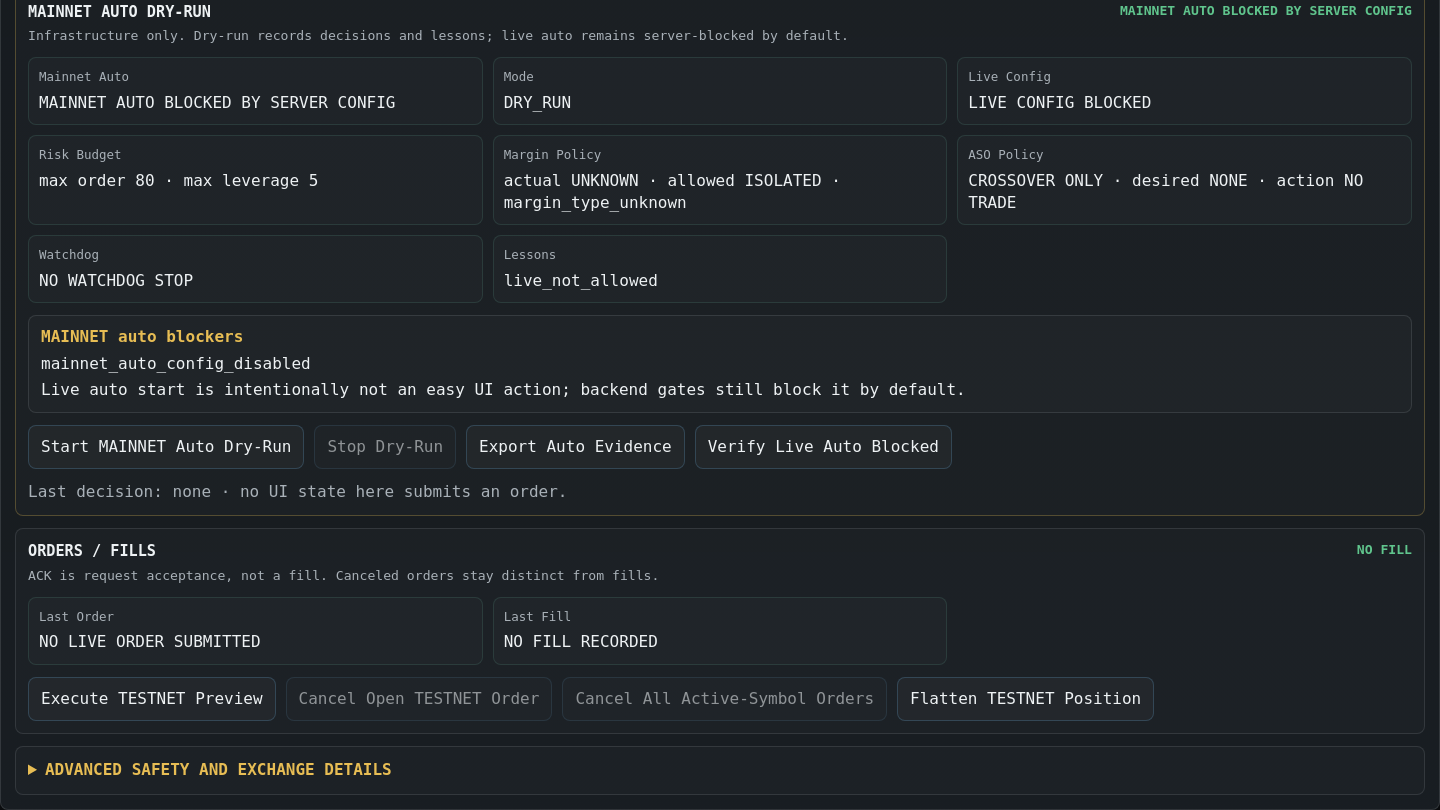
live access panel › submits, cancels, and flattens only through explicit TESTNET confirmations
(page scrolled)
Step 1. Click the button "Execute TESTNET Preview" → (152, 699), box [28,677,276,721]
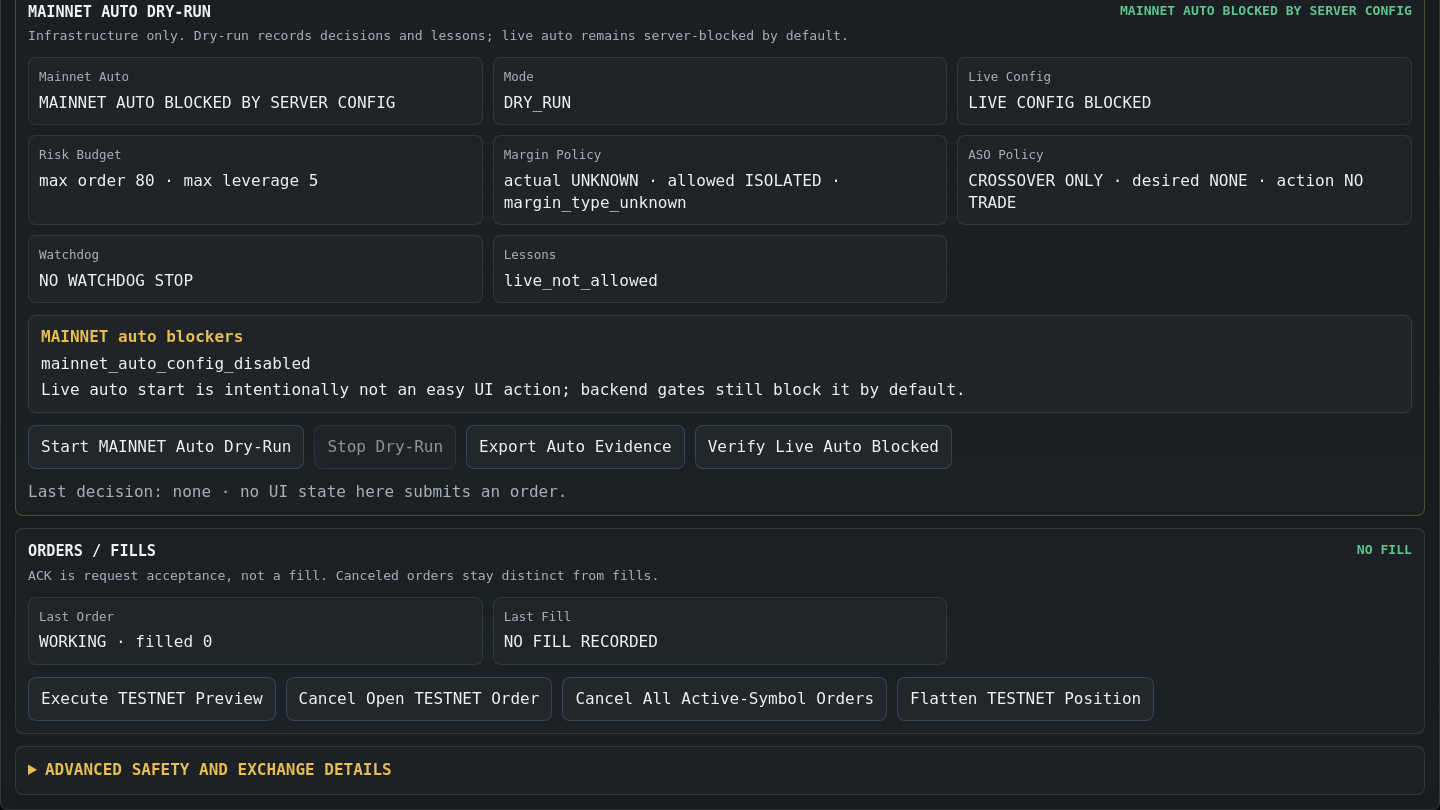
Expected: the text "FILLED" is not shown
Step 2. Click the button "Cancel Open TESTNET Order" → (419, 699), box [286,677,552,721]
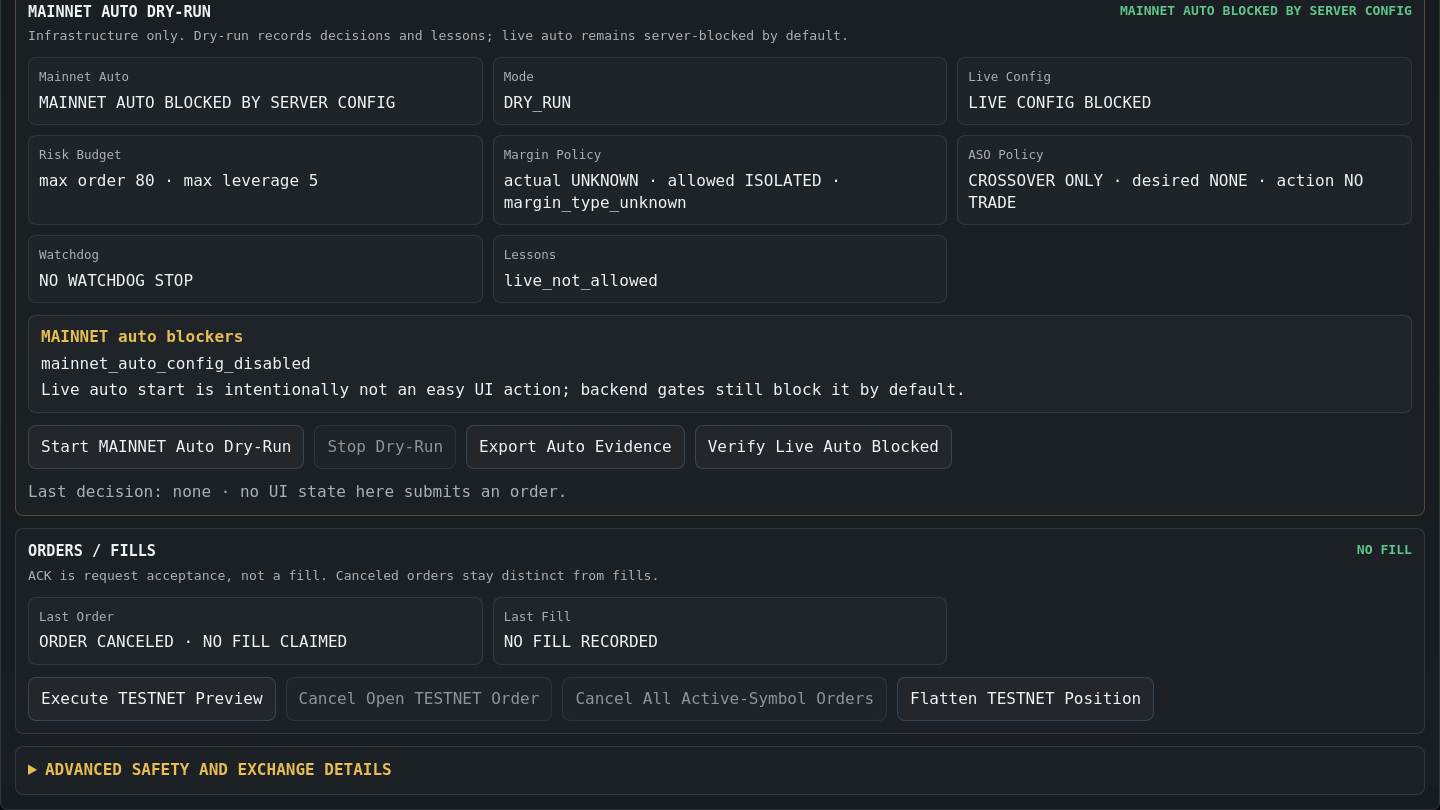
Step 3. Click the button "Flatten TESTNET Position" → (1026, 699), box [897,677,1154,721]
(page scrolled)
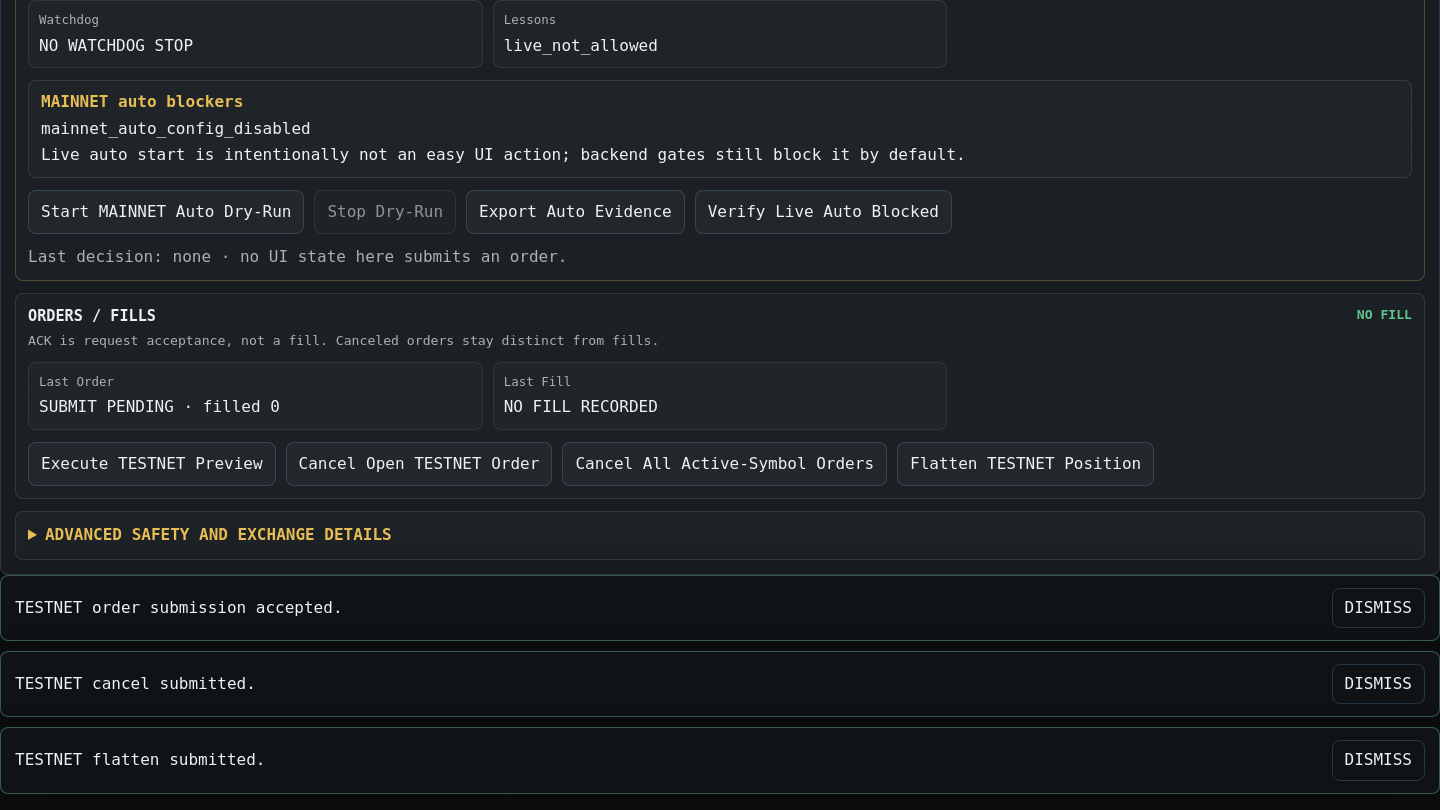
Now the text "TESTNET flatten submitted." is shown, box [15,750,266,769]
